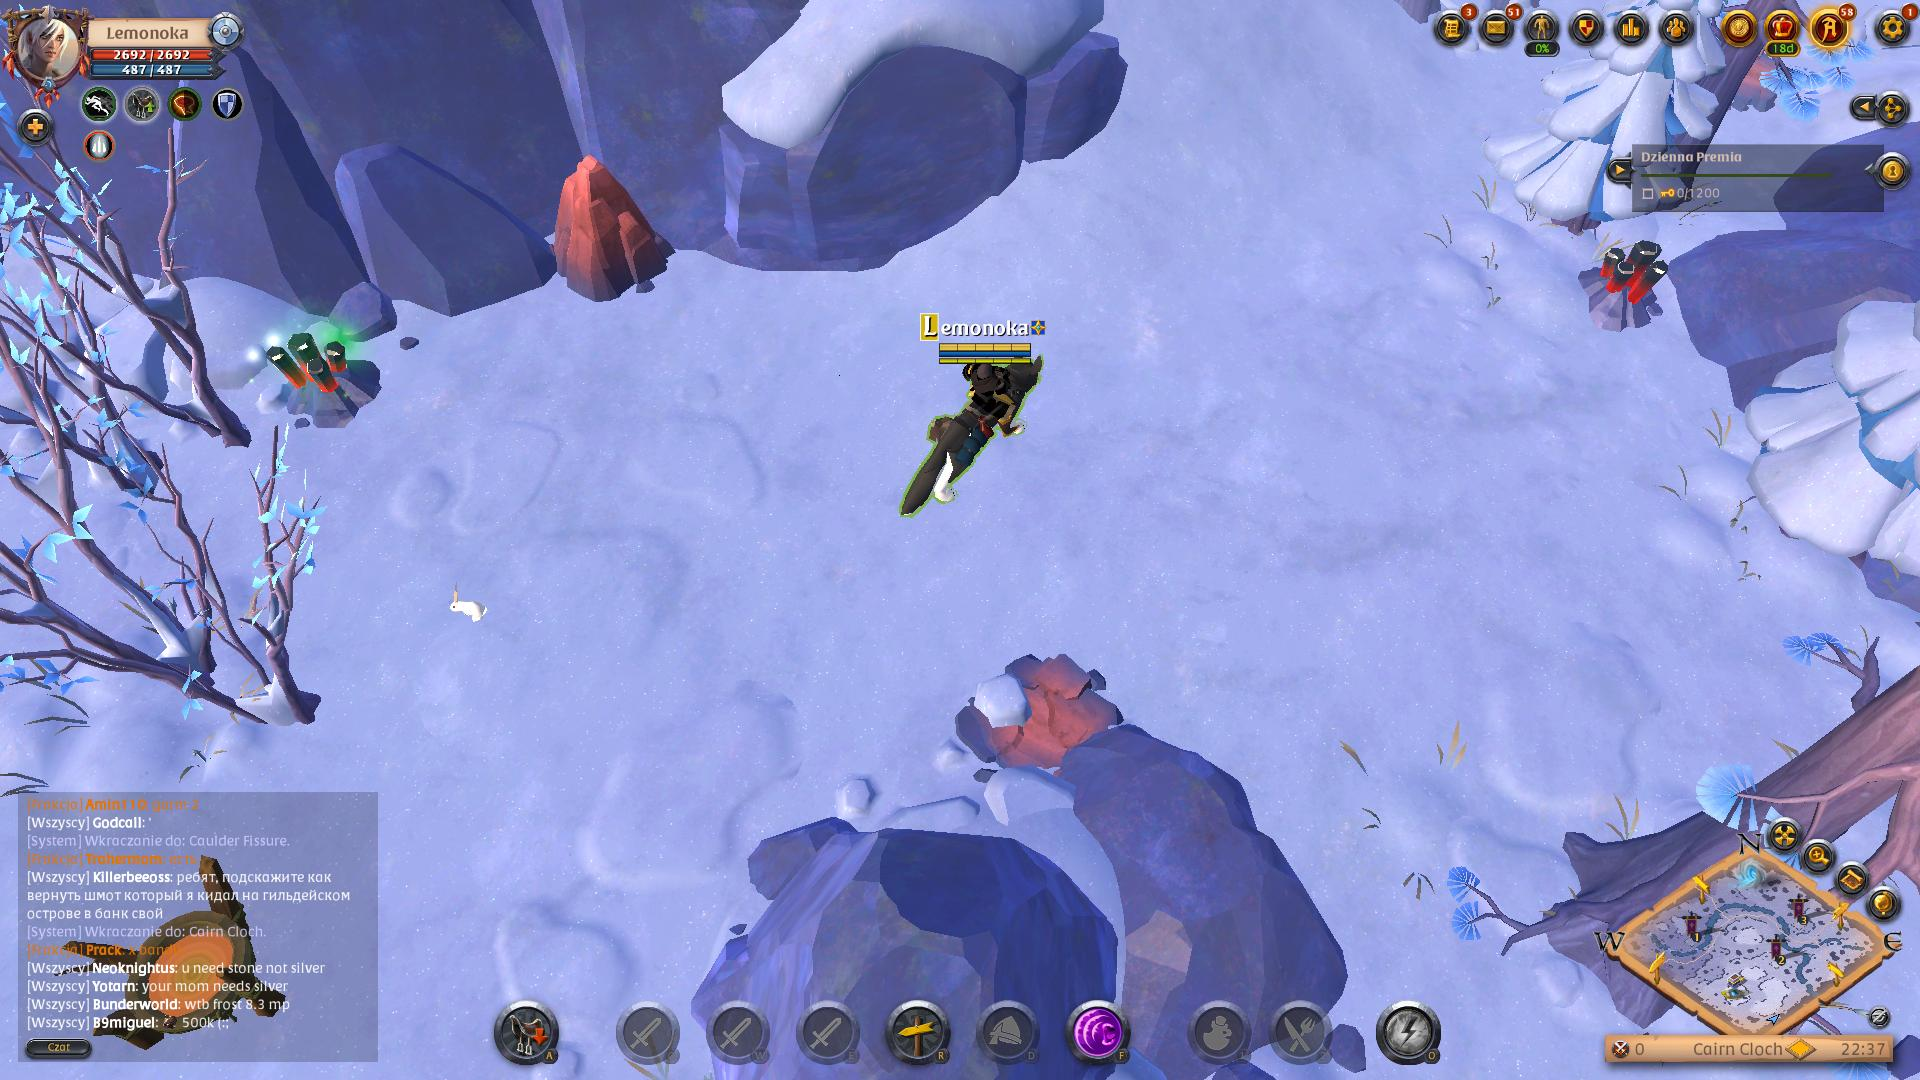ore tier 5: (261, 327, 386, 434), (1575, 225, 1668, 335)
rock tier 5: (541, 152, 678, 303)
